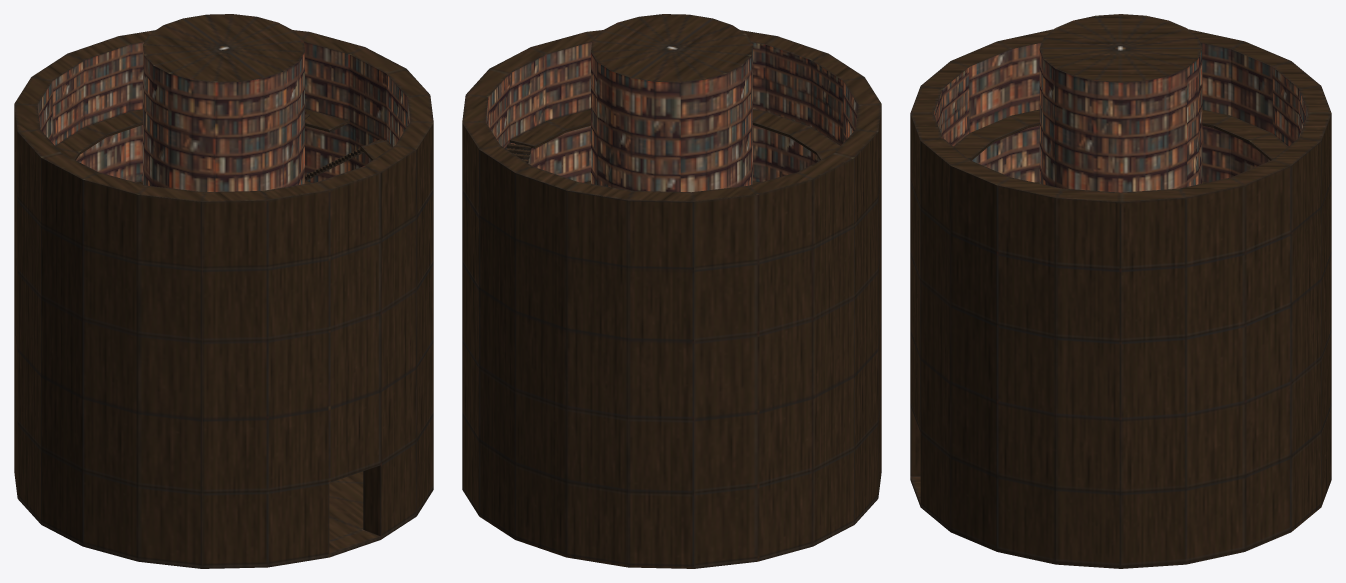
File: GametheoryLibraryTextured.fbx
3 renders of one model, left to right at view 1: azimuth 30°, elevation 25°; view 2: azimuth 150°, elevation 25°; view 3: azimuth 270°, elevation 25°, orthographic.
Parts seen in each view (by area): view 1: pasted__pCylinder1; view 2: pasted__pCylinder1; view 3: pasted__pCylinder1.
Boxes of the visible parts, left/top/right/bottom form: pasted__pCylinder1: left=14, top=14, right=433, bottom=568; pasted__pCylinder1: left=462, top=14, right=881, bottom=568; pasted__pCylinder1: left=910, top=14, right=1331, bottom=568.
Size of the model in its own units: 24.84 by 28.15 by 24.84.
